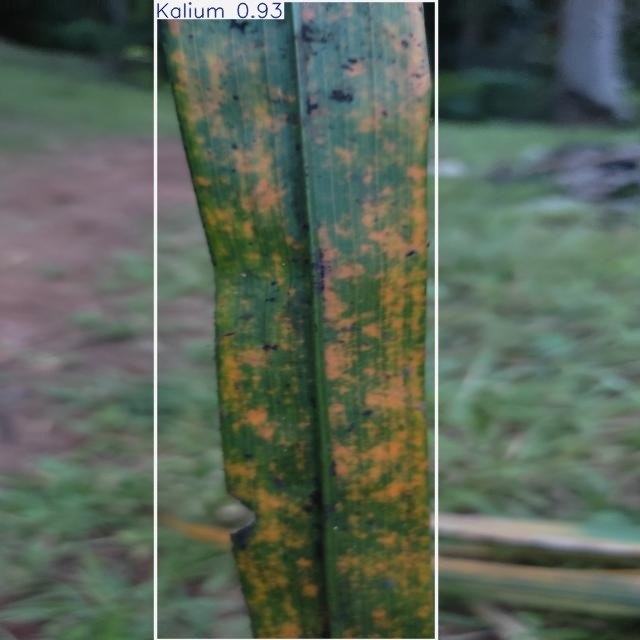Kalium: (156, 0, 436, 640)
